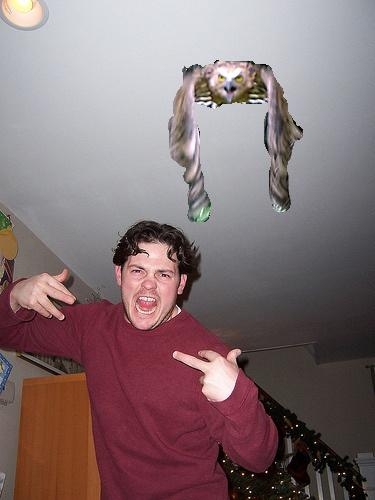tampered: (169, 61, 303, 222)
